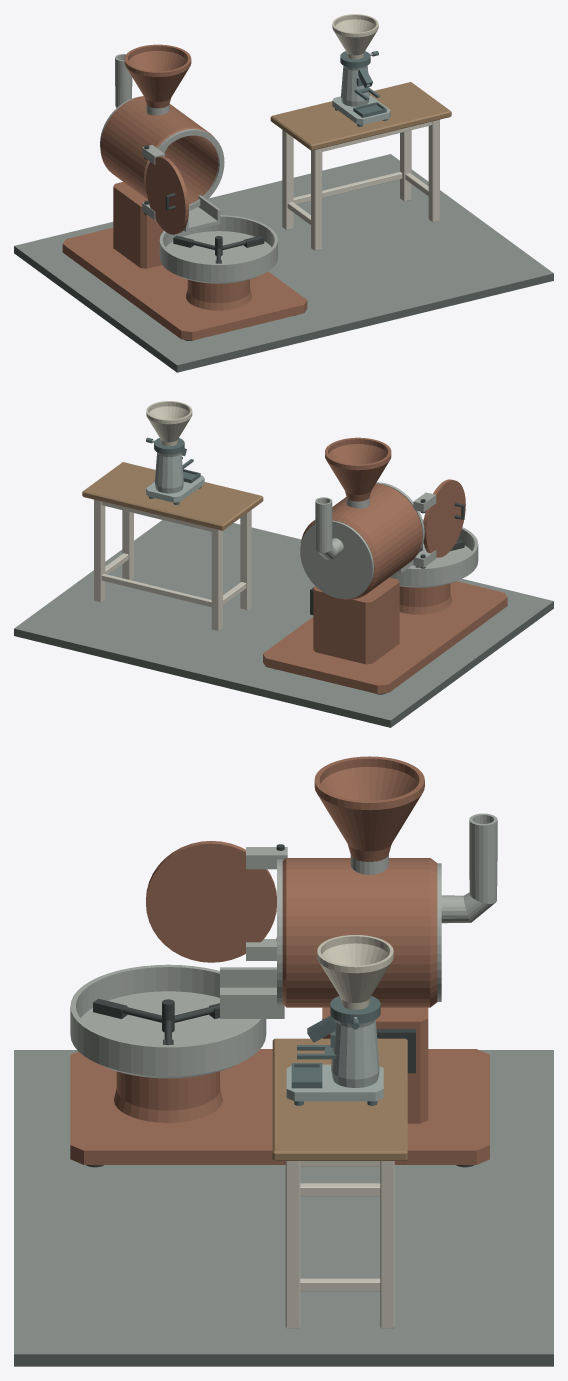
3 views of the same model, one above another, from view 1: azimuth 30°, elevation 25°; view 2: azimuth 150°, elevation 25°; view 3: azimuth 270°, elevation 25° (orthographic). The views are drawn at different scales.
Visible parts, largest first — view 1: SCENE_ONLY__DisplayFloor, roaster__WholeLongCommonMachineBase, roaster__WholeThickHorizontalRoasterBarrel, roaster__WholeOpenCircularFrontPan, table__Complete work surface, roaster__WholeRearDrumPedestal, roaster__WholeDeepOpenTopFeedHopper, roaster__WholeFixedOpenRoundFrontDoor, roaster__WholeFrontPanPedestal, grinder__WholeDeepOpenFlaredHopper, table__Worktable leg, table__Worktable leg.002 (+9 smaller); view 2: SCENE_ONLY__DisplayFloor, roaster__WholeLongCommonMachineBase, roaster__WholeRearDrumPedestal, table__Complete work surface, roaster__WholeThickHorizontalRoasterBarrel, roaster__WholeRearBarrelEnd, roaster__WholeDeepOpenTopFeedHopper, roaster__WholeFixedOpenRoundFrontDoor, roaster__WholeOpenCircularFrontPan, grinder__WholeDeepOpenFlaredHopper, roaster__WholeFrontPanPedestal, roaster__WholeOpenRearExhaustElbow (+8 smaller); view 3: SCENE_ONLY__DisplayFloor, roaster__WholeLongCommonMachineBase, roaster__WholeThickHorizontalRoasterBarrel, roaster__WholeOpenCircularFrontPan, roaster__WholeFixedOpenRoundFrontDoor, table__Complete work surface, roaster__WholeDeepOpenTopFeedHopper, roaster__WholeFrontPanPedestal, grinder__WholeDeepOpenFlaredHopper, roaster__WholeOpenRearExhaustElbow, roaster__WholeShortOpenDischargeChute, roaster__WholeRearDrumPedestal (+10 smaller).
Boxes of the visible parts, x1,y1,x2,y2 form: SCENE_ONLY__DisplayFloor: [14, 154, 553, 372]; roaster__WholeLongCommonMachineBase: [62, 227, 307, 340]; roaster__WholeThickHorizontalRoasterBarrel: [100, 96, 218, 204]; roaster__WholeOpenCircularFrontPan: [159, 215, 277, 283]; table__Complete work surface: [270, 82, 451, 150]; roaster__WholeRearDrumPedestal: [113, 182, 163, 268]; roaster__WholeDeepOpenTopFeedHopper: [124, 44, 191, 108]; roaster__WholeFixedOpenRoundFrontDoor: [146, 156, 188, 234]; roaster__WholeFrontPanPedestal: [186, 279, 251, 310]; grinder__WholeDeepOpenFlaredHopper: [332, 14, 378, 59]; table__Worktable leg: [311, 148, 322, 250]; table__Worktable leg.002: [428, 119, 439, 222]; SCENE_ONLY__DisplayFloor: [14, 520, 553, 727]; roaster__WholeLongCommonMachineBase: [263, 581, 507, 693]; roaster__WholeRearDrumPedestal: [313, 577, 399, 664]; table__Complete work surface: [82, 462, 263, 530]; roaster__WholeThickHorizontalRoasterBarrel: [301, 484, 422, 599]; roaster__WholeRearBarrelEnd: [300, 520, 373, 598]; roaster__WholeDeepOpenTopFeedHopper: [325, 437, 391, 501]; roaster__WholeFixedOpenRoundFrontDoor: [423, 479, 465, 557]; roaster__WholeOpenCircularFrontPan: [390, 519, 478, 587]; grinder__WholeDeepOpenFlaredHopper: [146, 401, 192, 446]; roaster__WholeFrontPanPedestal: [399, 583, 451, 614]; roaster__WholeOpenRearExhaustElbow: [315, 497, 343, 560]; SCENE_ONLY__DisplayFloor: [14, 1050, 553, 1366]; roaster__WholeLongCommonMachineBase: [70, 1049, 489, 1164]; roaster__WholeThickHorizontalRoasterBarrel: [282, 858, 437, 1007]; roaster__WholeOpenCircularFrontPan: [70, 964, 266, 1078]; roaster__WholeFixedOpenRoundFrontDoor: [146, 841, 276, 962]; table__Complete work surface: [272, 1038, 407, 1160]; roaster__WholeDeepOpenTopFeedHopper: [314, 756, 424, 861]; roaster__WholeFrontPanPedestal: [114, 1071, 222, 1122]; grinder__WholeDeepOpenFlaredHopper: [317, 935, 393, 1009]; roaster__WholeOpenRearExhaustElbow: [441, 813, 497, 923]; roaster__WholeShortOpenDischargeChute: [220, 967, 284, 1018]; roaster__WholeRearDrumPedestal: [322, 1007, 428, 1123].
Size of the model in its own units: 3.2 by 1.73 by 2.4.
